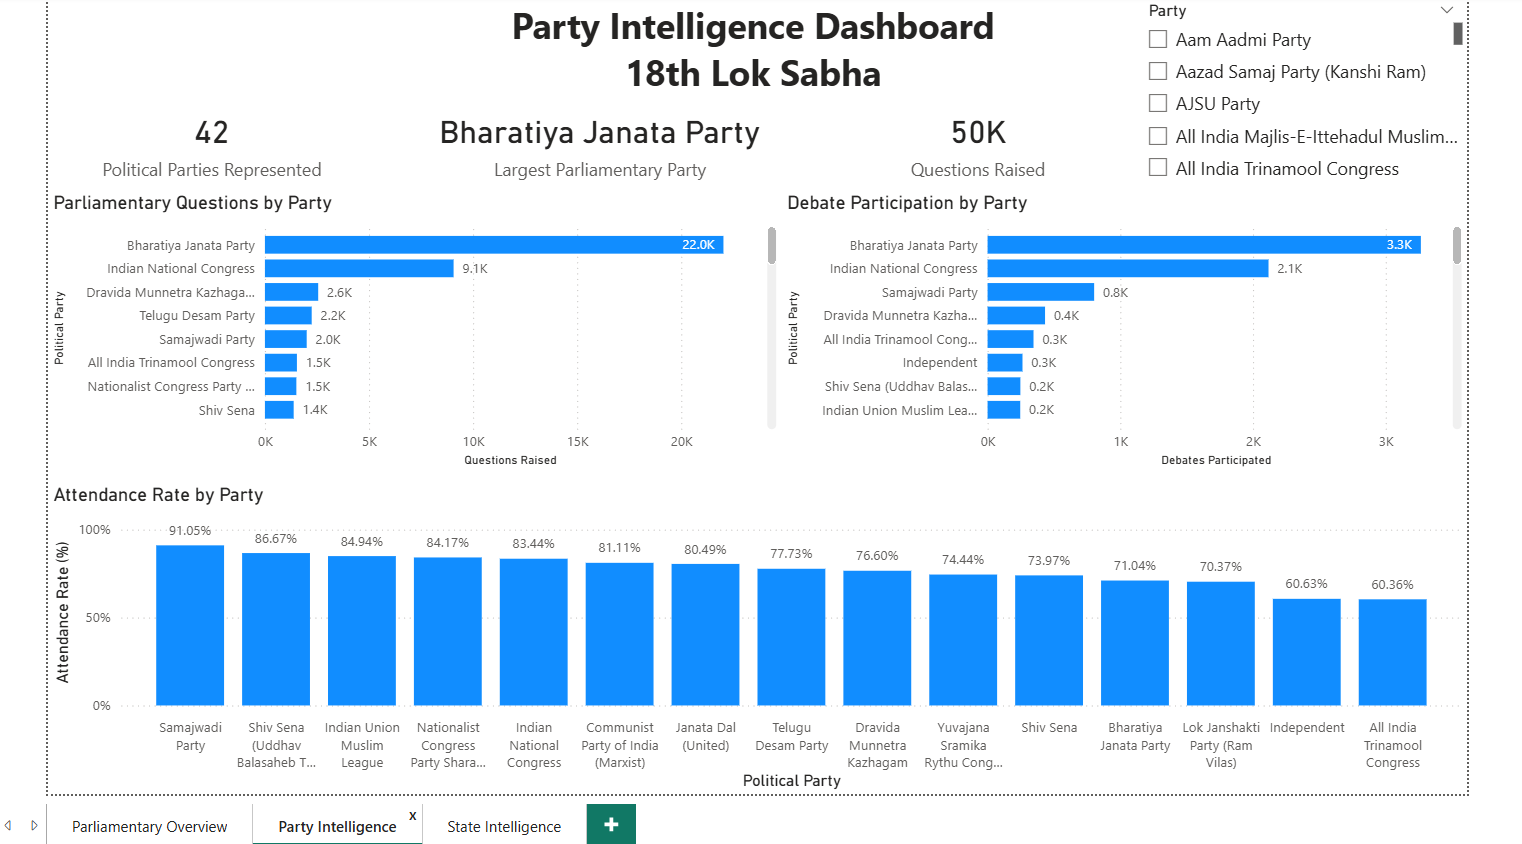

What the dashboard file says about the page in this screenshot:
{"tool":"powerbi","page":{"name":"Party Intelligence ","canvas":[1280,720],"ordinal":1},"visuals":[{"type":"textbox","box":[9.6,0,1270.7,52.1],"z":0},{"type":"card","fields":{"Values":["Count(MP_Clean.Party)"]},"box":[0,52.2,296.1,123.2],"z":1000},{"type":"card","fields":{"Values":["Min(MP_Clean.Party)"]},"box":[296.1,52.2,403,123.2],"z":2000},{"type":"card","fields":{"Values":["Sum(MP_Clean.Questions)"]},"box":[699.1,52.2,279.9,123.2],"z":3000},{"type":"clusteredBarChart","title":"Questions Asked by Party","fields":{"Category":["MP_Clean.Party"],"Y":["Sum(MP_Clean.Questions)"]},"box":[0,175.4,661.8,253.8],"z":4000},{"type":"clusteredBarChart","title":"Debates Participated by Party","fields":{"Y":["Sum(MP_Clean.Debates)"],"Category":["MP_Clean.Party"]},"box":[661.8,175.4,618.2,253.8],"z":5000},{"type":"clusteredColumnChart","title":"Average Attendance by Party","fields":{"Category":["MP_Clean.Party"],"Y":["Avg(MP_Clean.Attendance %)"]},"box":[0,439.1,1280,281.1],"z":6000},{"type":"slicer","fields":{"Values":["MP_Clean.Party"]},"box":[979,0,301,175.4],"z":7000}]}

Visuals, with their boxes on the page's 1280x720 design canvas (x1, y1, x2, y2). These are canvas units, not pixel positions in the 1522x844 screenshot, which may show the page scaled, cropped or inside an application window:
textbox: crop(10, 0, 1280, 52)
card - Count(MP_Clean.Party): crop(0, 52, 296, 175)
card - Min(MP_Clean.Party): crop(296, 52, 699, 175)
card - Sum(MP_Clean.Questions): crop(699, 52, 979, 175)
"Questions Asked by Party" clusteredBarChart: crop(0, 175, 662, 429)
"Debates Participated by Party" clusteredBarChart: crop(662, 175, 1280, 429)
"Average Attendance by Party" clusteredColumnChart: crop(0, 439, 1280, 720)
slicer - MP_Clean.Party: crop(979, 0, 1280, 175)
